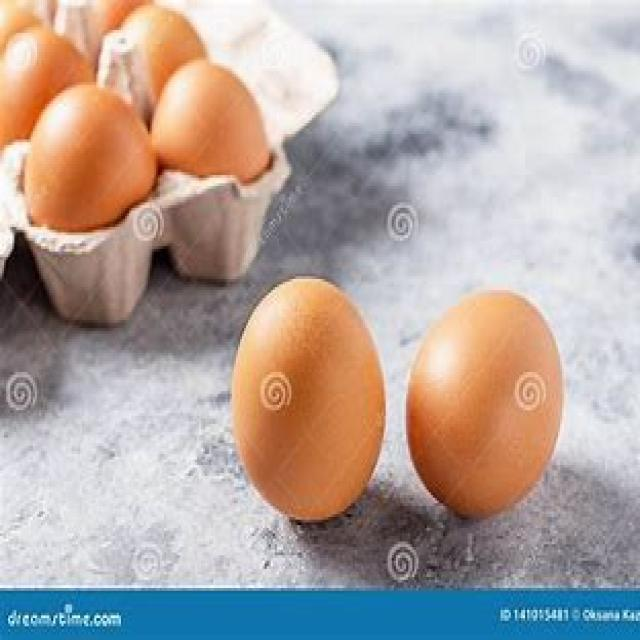Brown Egg: (230, 276, 391, 518), (408, 277, 564, 524), (23, 86, 156, 237), (156, 59, 268, 200), (3, 25, 89, 155)
